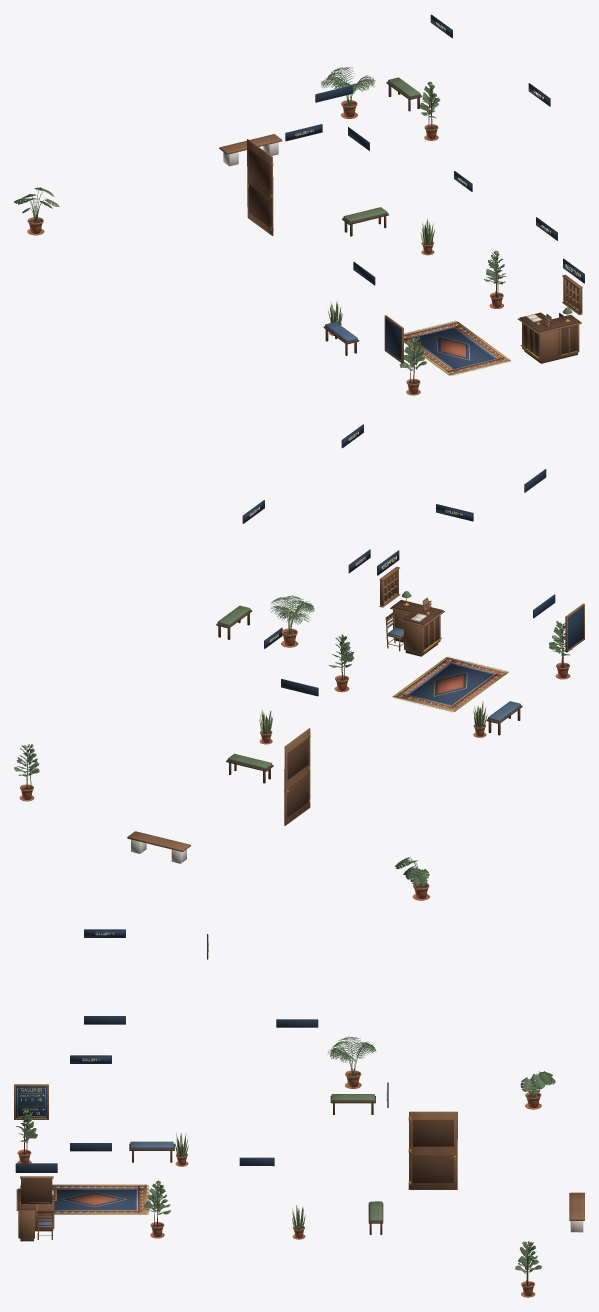
The model's file is Museum_Int_Furniture.fbx.
3 renders of one model, top to bottom at view 1: azimuth 30°, elevation 25°; view 2: azimuth 150°, elevation 25°; view 3: azimuth 270°, elevation 25°, orthographic. The views are drawn at different scales.
Visible parts, largest first — view 1: Hall_Rug, Hall_Reception_Desk, Door_GalleryVII, Landing_Plant, GalleryVII_Bench, Hall_Plant_0, Hall_Directory, GalleryVII_Plant_0, GalleryVII_Plant_1, Hall_Plant_1, Hall_Reception_Cabinet, StairHall_Bench (+2 smaller); view 2: Hall_Rug, Hall_Reception_Desk, Door_GalleryVII, Landing_Plant, GalleryVII_Bench, Hall_Directory, GalleryVII_Plant_0, GalleryVII_Plant_1, Hall_Plant_1, Hall_Plant_0; view 3: Door_GalleryVII, Hall_Rug, Hall_Directory, Hall_Reception_Desk, Landing_Plant, Hall_Reception_Cabinet, GalleryVII_Plant_0, Hall_Plant_1, GalleryVII_Plant_1, GalleryVII_Bench, Hall_Plant_0, Hall_Bench (+1 smaller).
Boxes of the visible parts, x1,y1,x2,y2 form: Hall_Rug: (404,320,510,375); Hall_Reception_Desk: (518,307,581,363); Door_GalleryVII: (247,139,273,235); Landing_Plant: (321,67,375,118); GalleryVII_Bench: (219,134,282,166); Hall_Plant_0: (399,336,426,395); Hall_Directory: (384,315,403,363); GalleryVII_Plant_0: (14,187,59,235); GalleryVII_Plant_1: (420,81,440,140); Hall_Plant_1: (484,250,506,308); Hall_Reception_Cabinet: (562,274,582,315); StairHall_Bench: (342,207,388,236); Hall_Rug: (392,656,508,712); Hall_Reception_Desk: (390,591,444,656); Door_GalleryVII: (284,728,310,825); Landing_Plant: (271,595,314,647); GalleryVII_Bench: (127,831,190,863); Hall_Directory: (565,603,584,652); GalleryVII_Plant_0: (395,856,429,900); GalleryVII_Plant_1: (14,744,39,801); Hall_Plant_1: (329,634,354,692); Hall_Plant_0: (549,621,572,679); Door_GalleryVII: (408,1111,457,1189); Hall_Rug: (52,1184,149,1214); Hall_Directory: (14,1084,48,1119); Hall_Reception_Desk: (16,1185,56,1241); Landing_Plant: (327,1036,376,1088); Hall_Reception_Cabinet: (20,1176,53,1204); GalleryVII_Plant_0: (520,1071,555,1109); Hall_Plant_1: (144,1180,170,1238); GalleryVII_Plant_1: (515,1241,541,1297); GalleryVII_Bench: (569,1192,584,1232); Hall_Plant_0: (16,1109,37,1163); Hall_Bench: (129,1141,174,1162).
Bounding box in the file's own units: 13.51 × 7.18 × 16.33.
